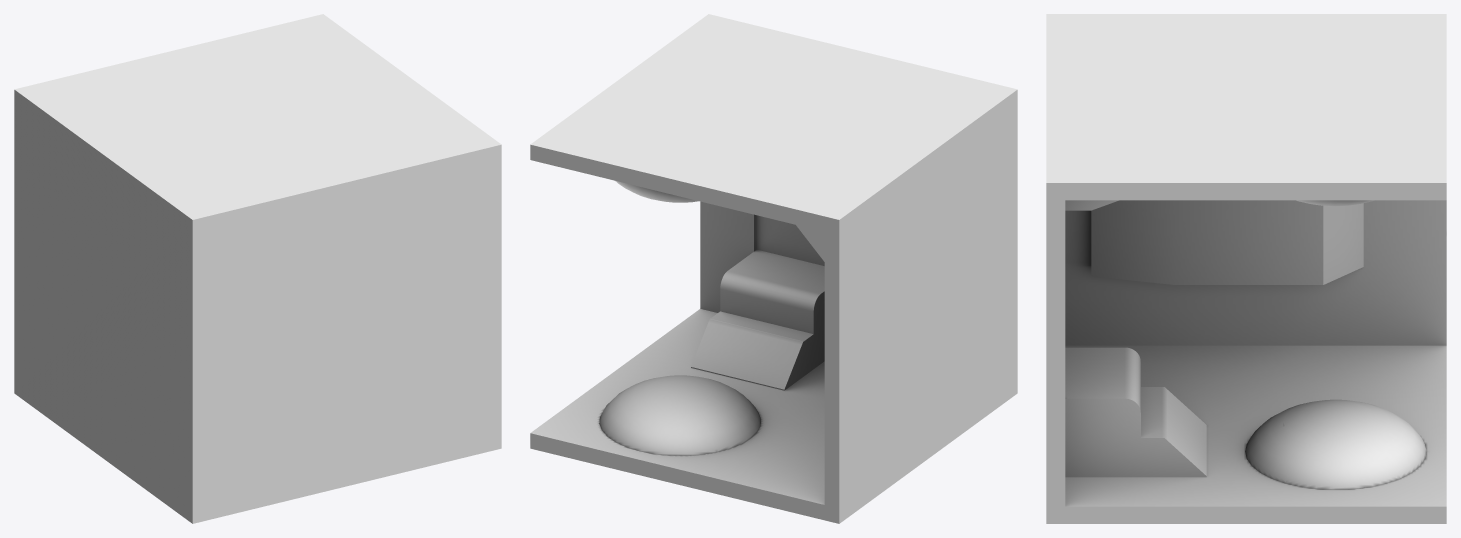
Rendered from SurfaceNormalsRoom.glb.
3 views of the same model, side by side, from view 1: azimuth 30°, elevation 25°; view 2: azimuth 150°, elevation 25°; view 3: azimuth 270°, elevation 25° (orthographic). The views are drawn at different scales.
Parts seen in each view (by area): view 1: Plane; view 2: Plane, Sphere, Sphere.001; view 3: Plane, Sphere.
Boxes of the visible parts, box(x1,y1,x2,y2) form: Plane: box(14, 14, 501, 523); Plane: box(530, 14, 1017, 523); Sphere: box(599, 375, 760, 455); Sphere.001: box(615, 180, 698, 202); Plane: box(1046, 14, 1446, 523); Sphere: box(1245, 399, 1426, 489).
Bounding box in the file's own units: 2.1 × 1.97 × 2.1.
Materials: 1 (1 with a texture image).
